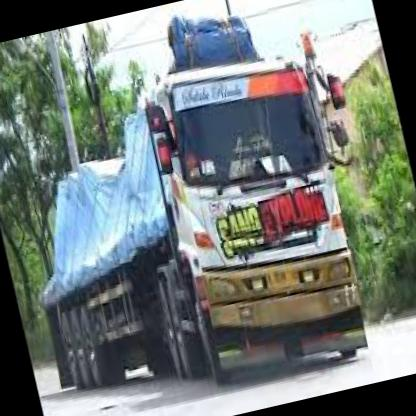truck: (138, 41, 379, 394)
